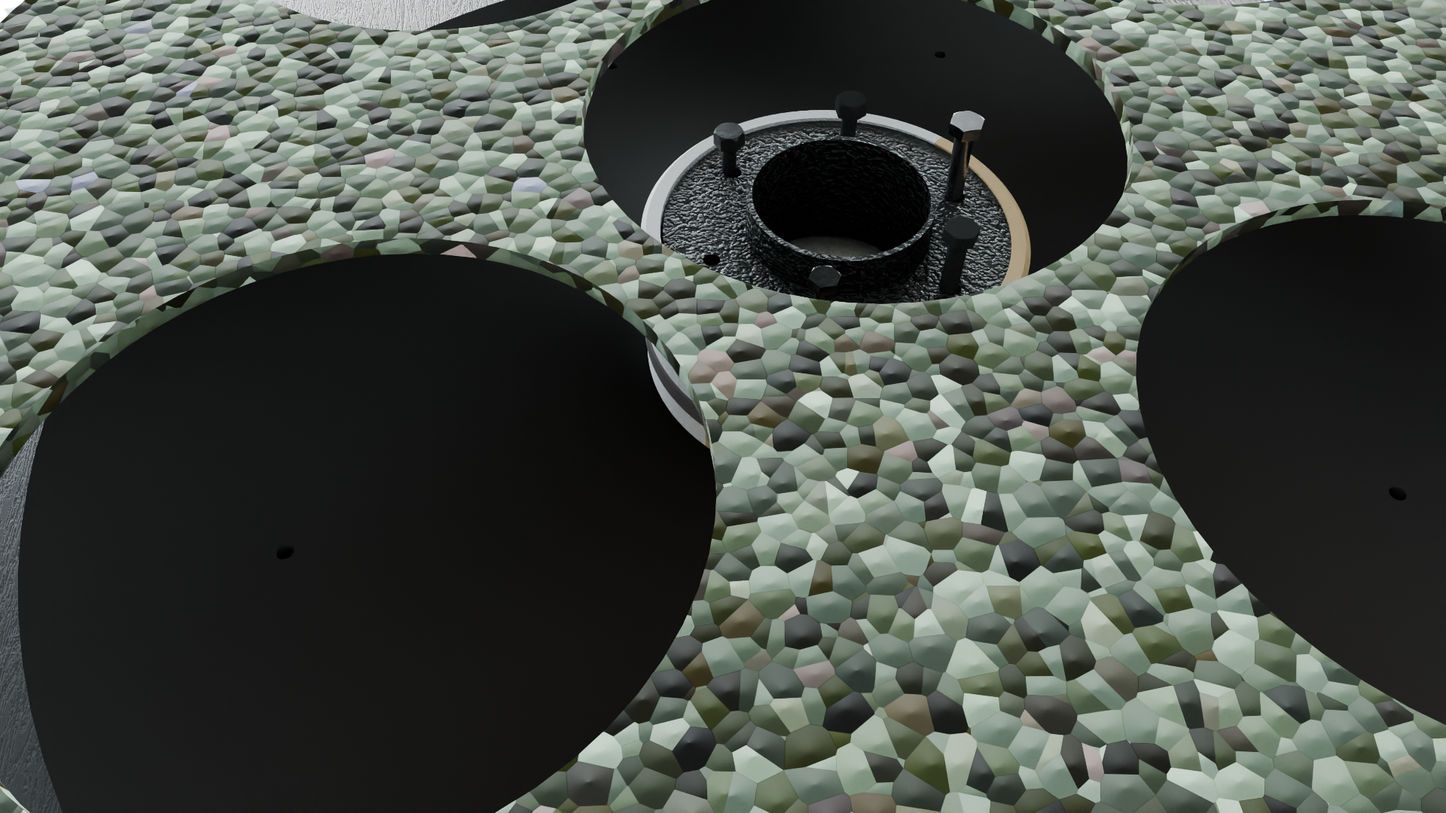bolt: (944, 217, 981, 239), (950, 111, 985, 132), (809, 266, 842, 288), (836, 90, 868, 111), (713, 123, 745, 142)
